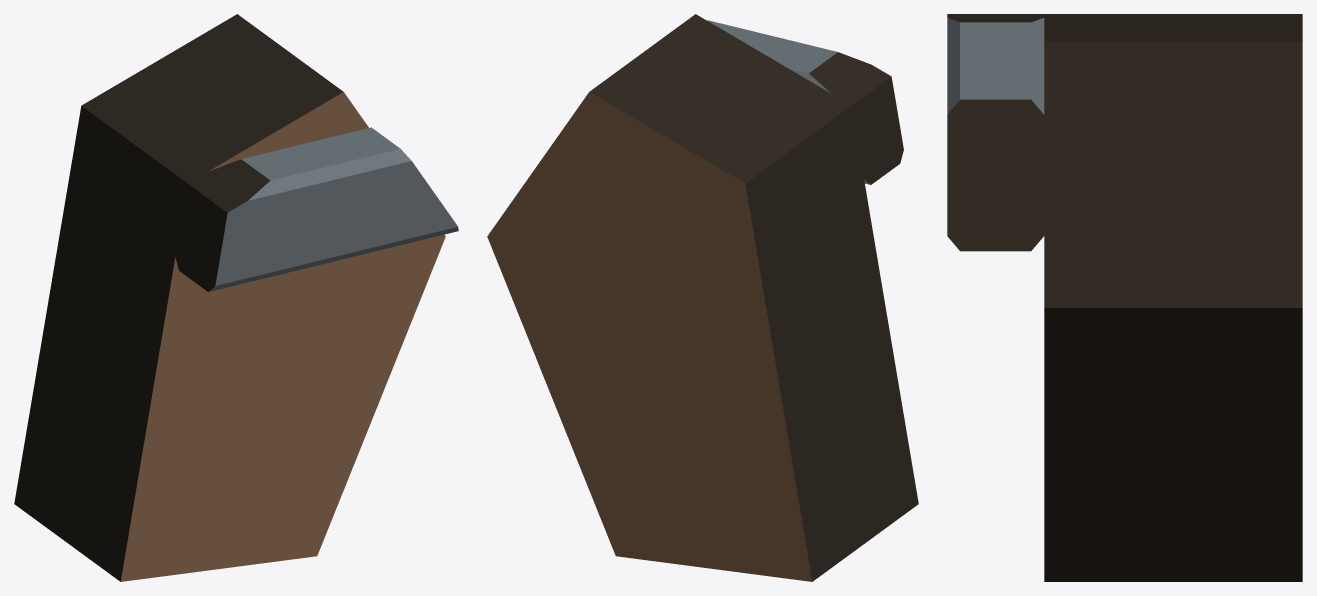
The model's file is SM_DoorShard_03_10.fbx.
The picture shows the model from 3 angles, left to right: view 1: azimuth 30°, elevation 25°; view 2: azimuth 150°, elevation 25°; view 3: azimuth 270°, elevation 25°; orthographic projection. The views are drawn at different scales.
Visible parts, largest first — view 1: SM_DoorShard_03_10; view 2: SM_DoorShard_03_10; view 3: SM_DoorShard_03_10.
Part boxes in pixels (x1,y1,x2,y2): SM_DoorShard_03_10: (14,14,458,581); SM_DoorShard_03_10: (487,14,918,581); SM_DoorShard_03_10: (947,14,1302,581).
Size of the model in its own units: 28.23 by 22 by 37.98.
